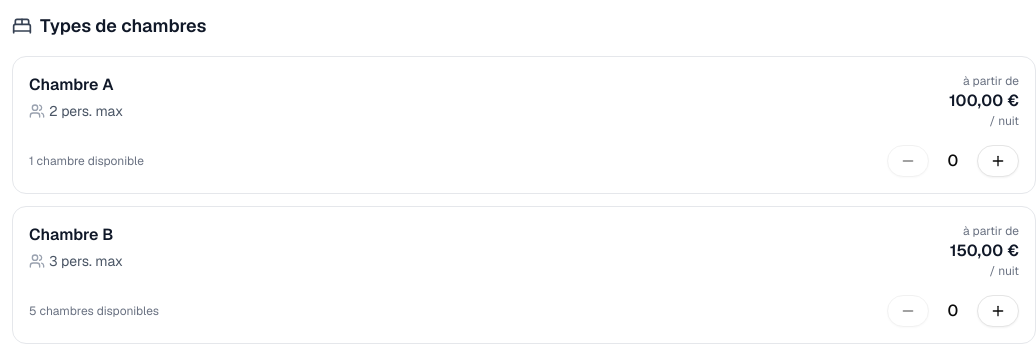
Scenario: RoomTypesSection › caps each type independently by its own availability
Click the button named "Ajouter une chambre Chambre A" at (998, 161), box 977,145 -> 1019,177
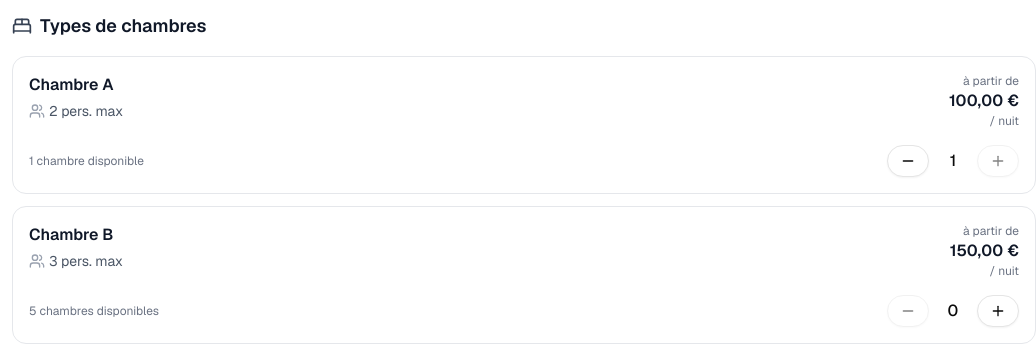
expect the button named "Ajouter une chambre Chambre B" is enabled: met, box 977,295 -> 1019,327
expect the button named "Ajouter une chambre Chambre A" is disabled: met, box 977,145 -> 1019,177
